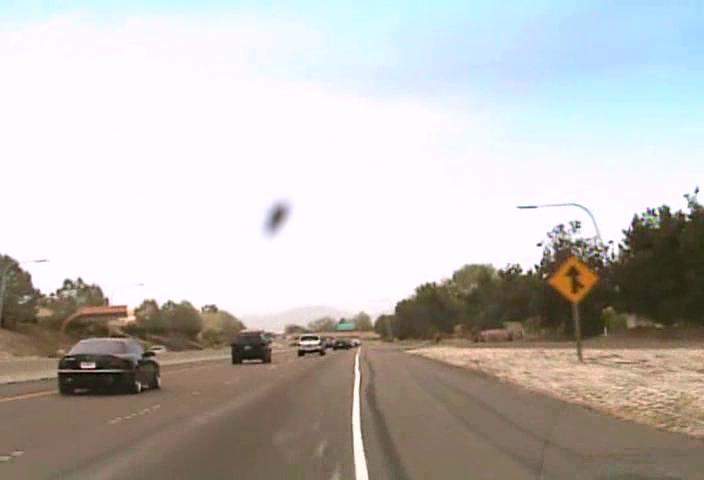merge: (547, 253, 599, 304)
